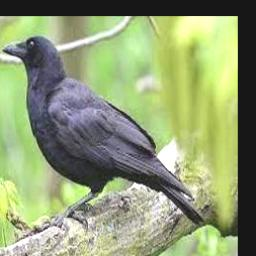Crow: (1, 35, 204, 227)
